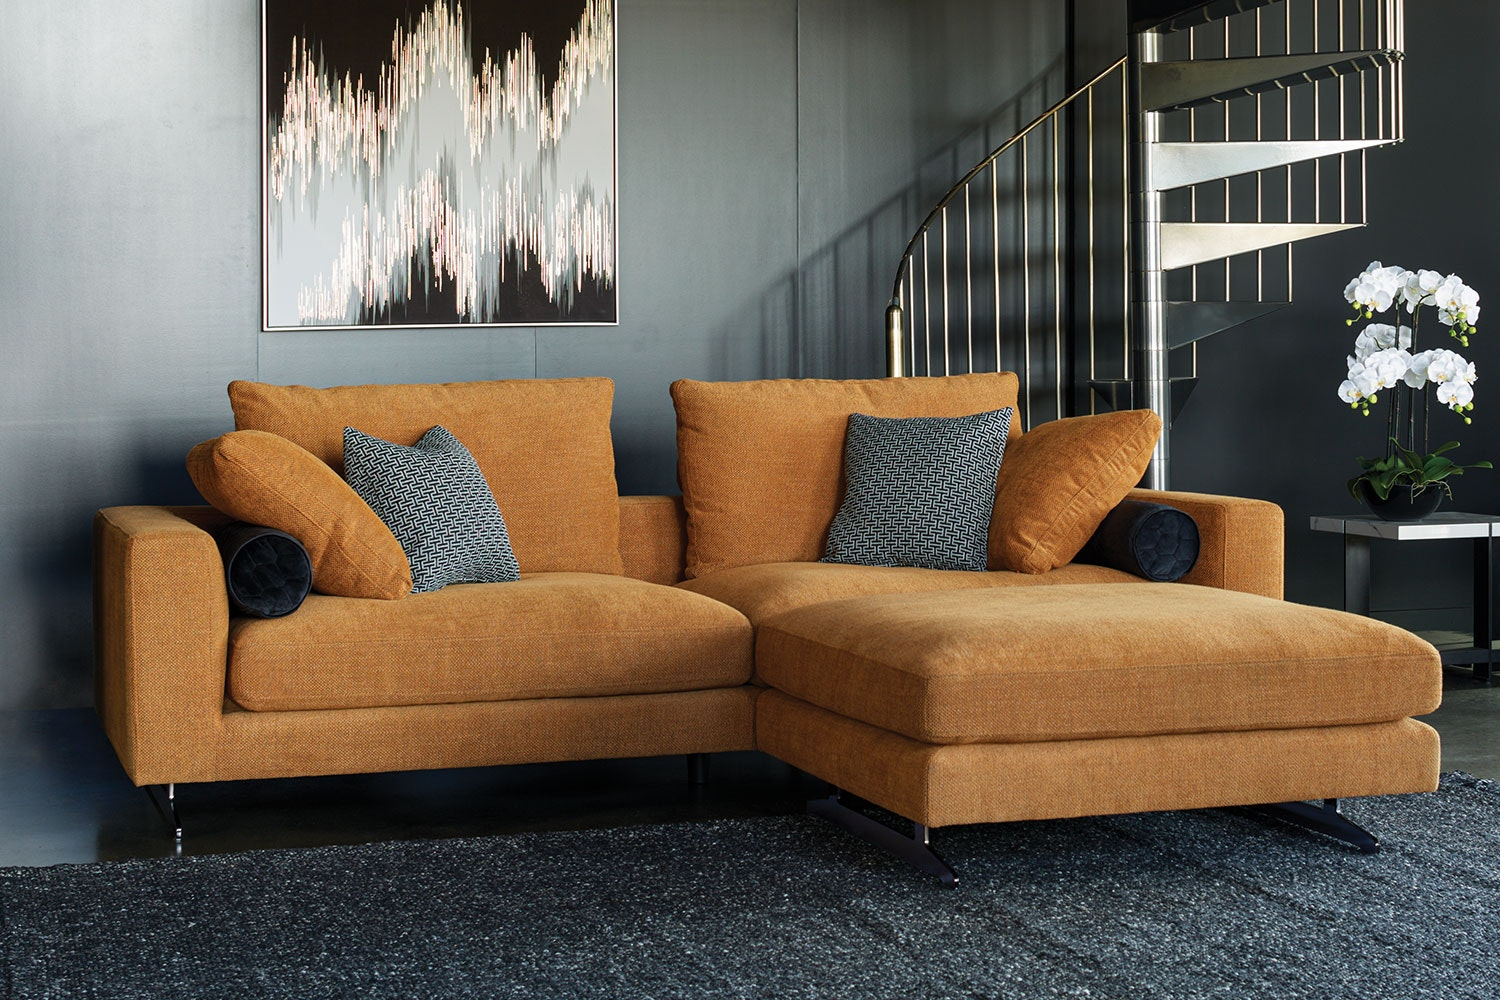sofa: (94, 368, 1449, 879)
